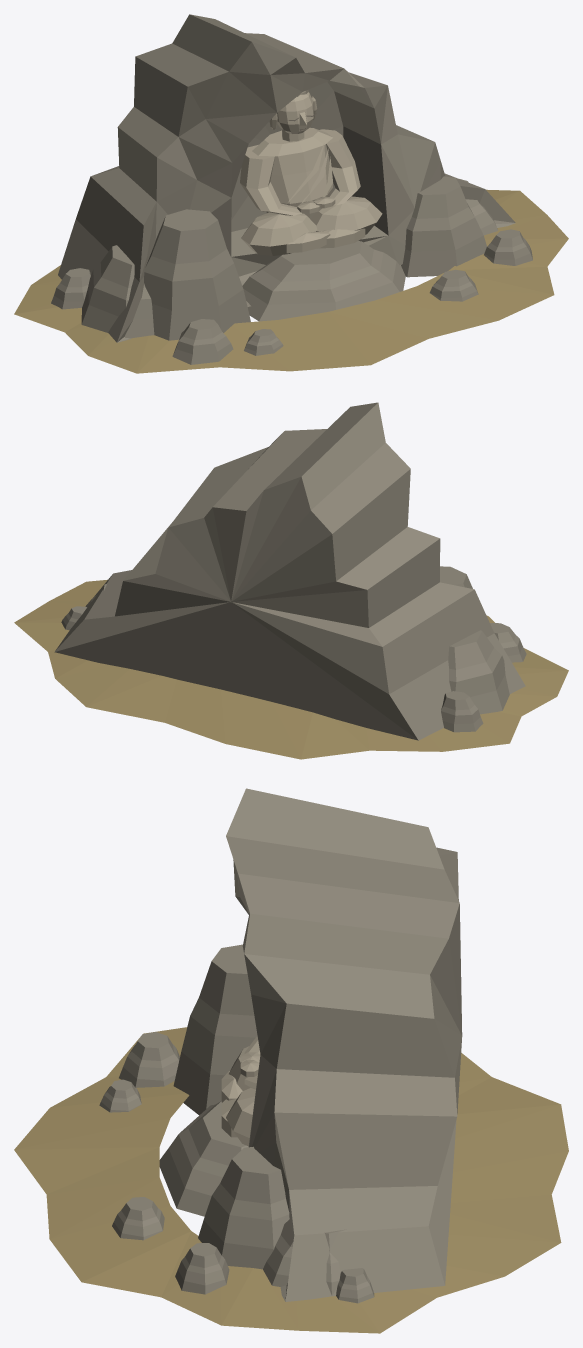
Rendered from changan-lowpoly-cliff-buddha.glb.
3 views of the same model, one above another, from view 1: azimuth 30°, elevation 25°; view 2: azimuth 150°, elevation 25°; view 3: azimuth 270°, elevation 25° (orthographic). The views are drawn at different scales.
Visible parts, largest first — view 1: Lowpoly Cliff Buddha; view 2: Lowpoly Cliff Buddha; view 3: Lowpoly Cliff Buddha.
Part boxes in pixels (x1=…): Lowpoly Cliff Buddha: x1=14, y1=14, x2=568, y2=373; Lowpoly Cliff Buddha: x1=14, y1=402, x2=568, y2=759; Lowpoly Cliff Buddha: x1=14, y1=788, x2=568, y2=1333.
Bounding box in the file's own units: 1.67 × 0.834 × 1.22.
